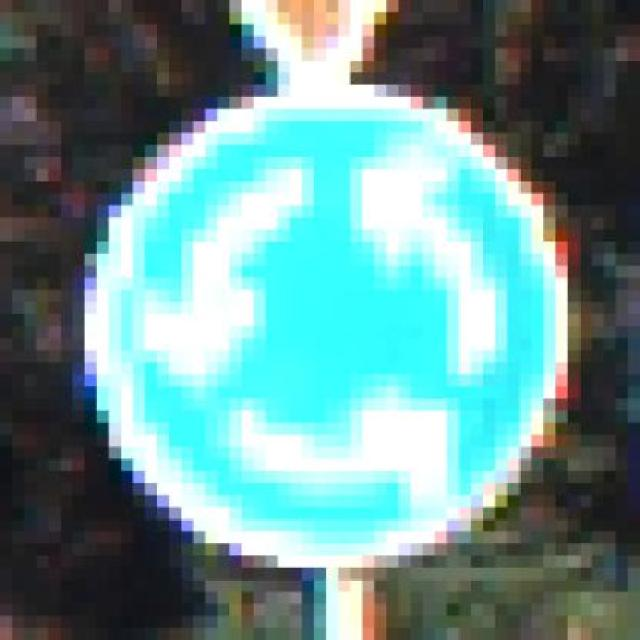Round-About: (61, 85, 604, 592)
